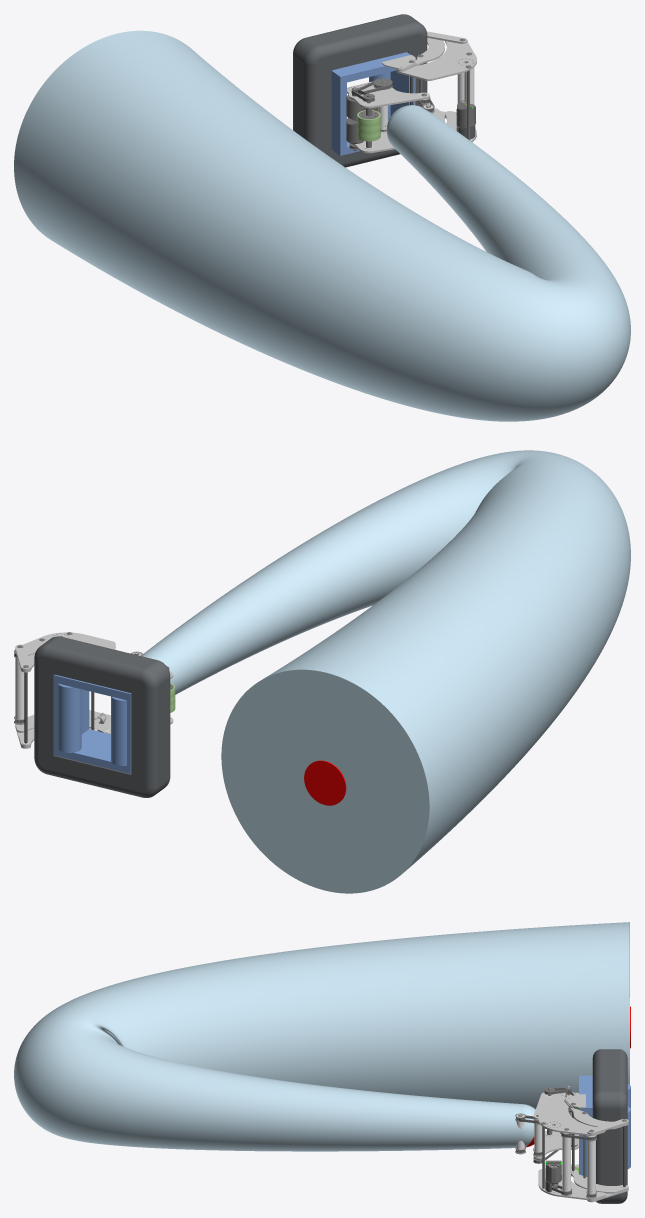
3 renders of one model, top to bottom at view 1: azimuth 30°, elevation 25°; view 2: azimuth 150°, elevation 25°; view 3: azimuth 270°, elevation 25°, orthographic. The views are drawn at different scales.
Parts seen in each view (by area): view 1: Rough Accuracy, Bumpa, 16th Nope, Top Bar, Shooter Plate; view 2: Rough Accuracy, Bumpa, 16th Nope, Perfect Accuracy, Top Bar; view 3: Rough Accuracy, Bumpa, Top Bar (×2), 16th Nope, Deadaxle Tube_8.562_in, Deadaxle Tube_8.5_in, Bottom Bar.
Boxes of the visible parts, bbox=[...] form: Rough Accuracy: bbox=[14, 30, 630, 421]; Bumpa: bbox=[293, 14, 427, 167]; 16th Nope: bbox=[331, 52, 415, 155]; Top Bar: bbox=[396, 41, 476, 80]; Shooter Plate: bbox=[347, 81, 429, 108]; Rough Accuracy: bbox=[142, 450, 630, 893]; Bumpa: bbox=[34, 636, 170, 797]; 16th Nope: bbox=[54, 674, 131, 773]; Perfect Accuracy: bbox=[304, 760, 346, 805]; Top Bar: bbox=[15, 632, 115, 656]; Rough Accuracy: bbox=[14, 922, 629, 1151]; Bumpa: bbox=[592, 1049, 627, 1203]; Top Bar (×2): bbox=[538, 1100, 605, 1200]; 16th Nope: bbox=[579, 1075, 630, 1176]; Deadaxle Tube_8.562_in: bbox=[562, 1137, 570, 1191]; Deadaxle Tube_8.5_in: bbox=[587, 1140, 595, 1194]; Bottom Bar: bbox=[571, 1169, 628, 1193].
Size of the model in its own units: 1.6 by 0.762 by 2.26.
